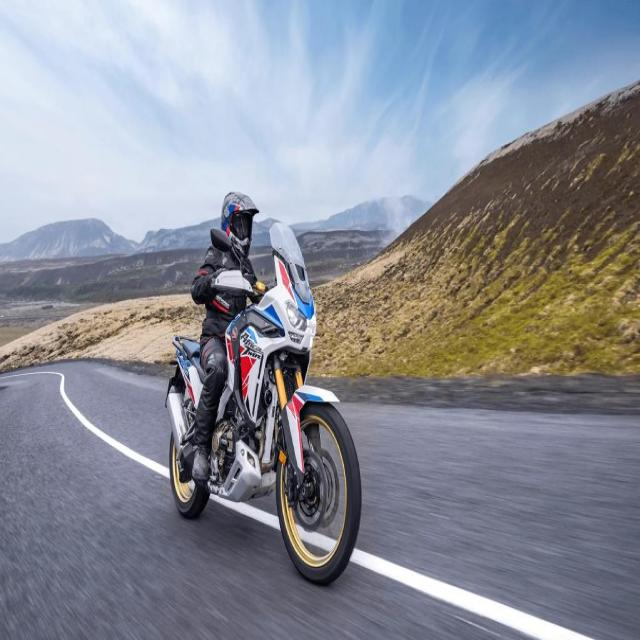MOTORCYCLE: (182, 274, 362, 592)
